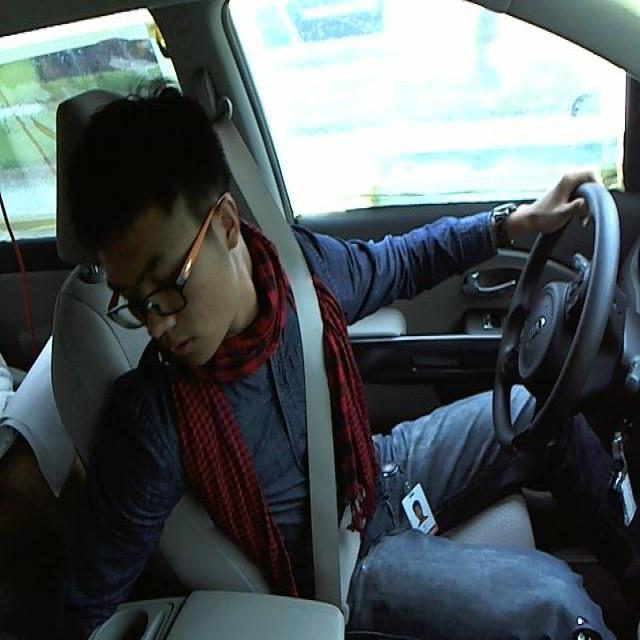seatbelt: (250, 209, 361, 600)
